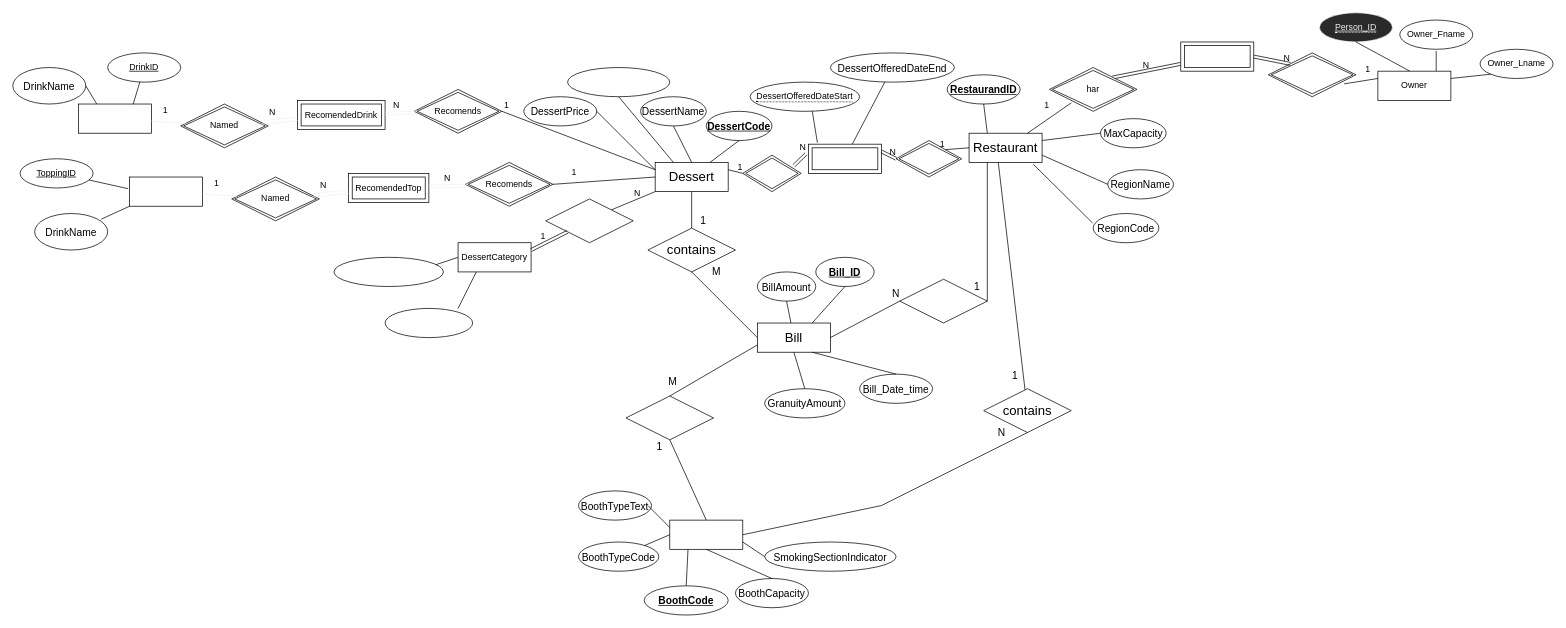
Some shapes in this 1566 by 628 pixel diagram are drawn without their labels. Here are the shapes that lost their labels. From the top down, the centre of each, then its label:
At (x=1217, y=56): "Owns".
At (x=1312, y=74): "Relationship".
At (x=618, y=82): "DessertDescription".
At (x=114, y=118): "Drink".
At (x=771, y=173): "Offered".
At (x=844, y=158): "Offer".
At (x=928, y=158): "Offers".
At (x=166, y=191): "Topping".
At (x=589, y=220): "belongsto".
At (x=388, y=272): "DessertCategoryName".
At (x=943, y=300): "process".
At (x=428, y=323): "DessertCategoryID".
At (x=669, y=417): "generate".
At (x=706, y=534): "Booth".
